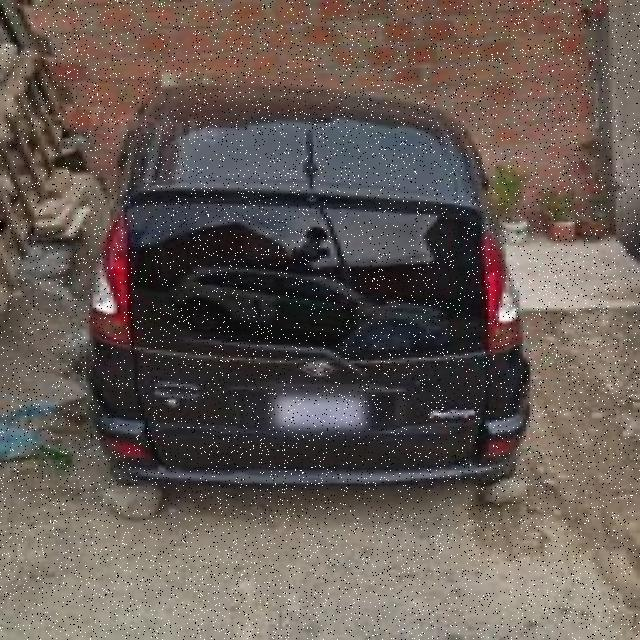cars: (56, 64, 564, 522)
